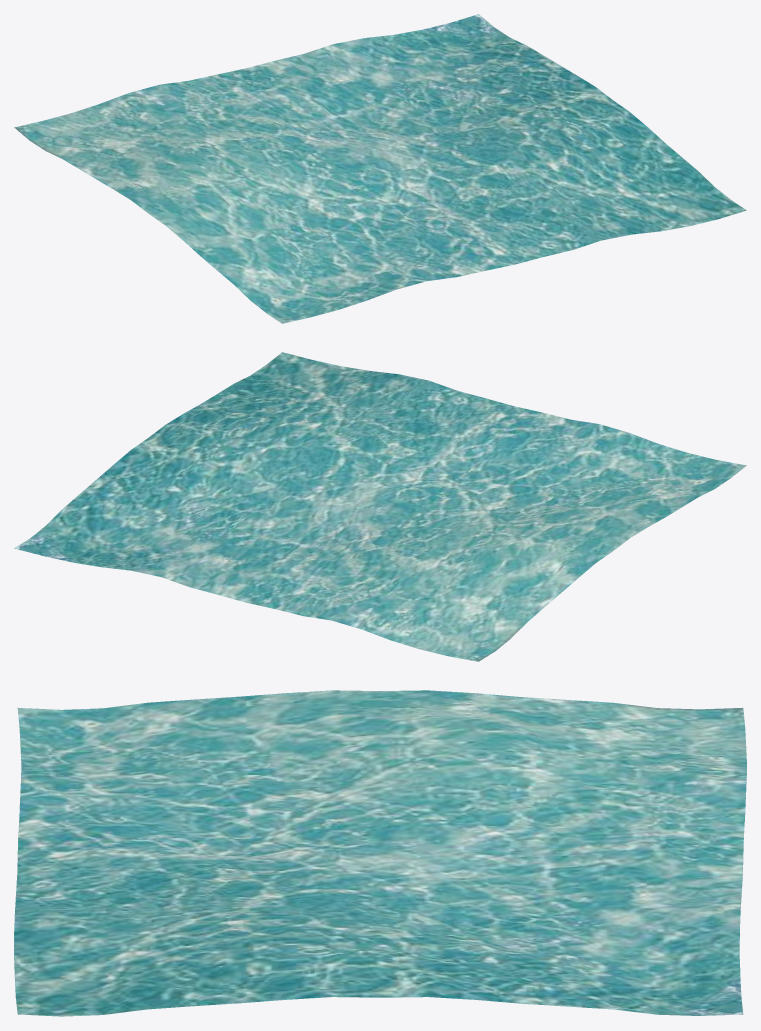
File: water_000226.obj
The picture shows the model from 3 angles, top to bottom: view 1: azimuth 30°, elevation 25°; view 2: azimuth 150°, elevation 25°; view 3: azimuth 270°, elevation 25°; orthographic projection. The views are drawn at different scales.
Parts seen in each view (by area): view 1: Plan.003_Plan.001; view 2: Plan.003_Plan.001; view 3: Plan.003_Plan.001.
Part boxes in pixels (left/top/right/bottom): Plan.003_Plan.001: left=14, top=14, right=746, bottom=323; Plan.003_Plan.001: left=14, top=352, right=746, bottom=661; Plan.003_Plan.001: left=14, top=690, right=746, bottom=1016.
Bounding box in the file's own units: 60441 × 2469 × 60941.
